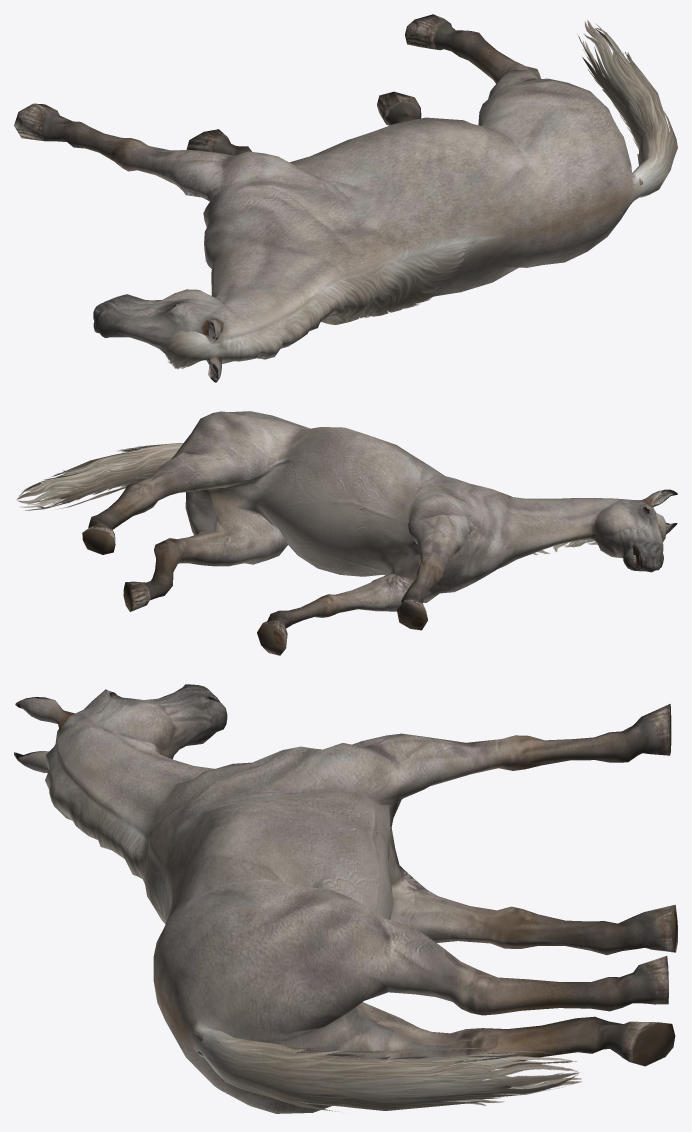
File: model-animated-horse-body.glb
3 views of the same model, one above another, from view 1: azimuth 30°, elevation 25°; view 2: azimuth 150°, elevation 25°; view 3: azimuth 270°, elevation 25° (orthographic). The views are drawn at different scales.
Visible parts, largest first — view 1: Object_7; view 2: Object_7; view 3: Object_7.
Boxes of the visible parts, x1,y1,x2,y2 form: Object_7: [14, 14, 677, 382]; Object_7: [16, 411, 677, 655]; Object_7: [14, 684, 677, 1113].
Bounding box in the file's own units: 2.49 × 0.6329 × 1.7.
1 material, 1 textured.
